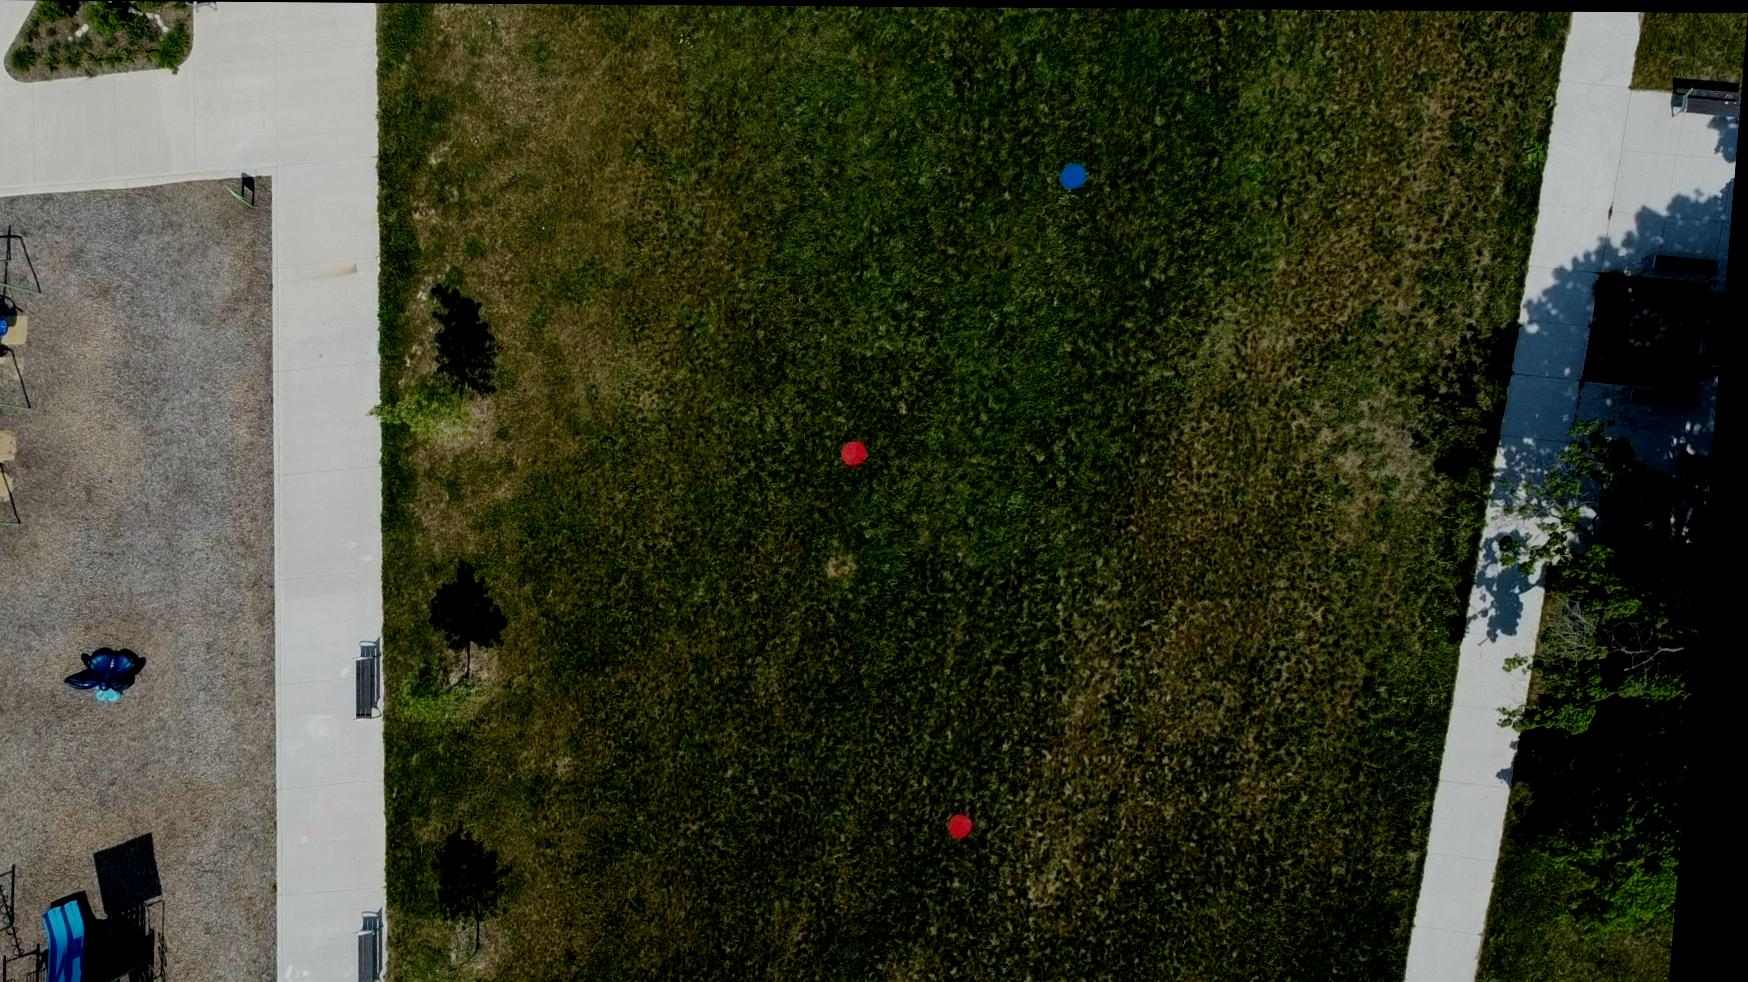Blue: (1061, 161, 1091, 188)
Red: (846, 438, 876, 466), (960, 810, 988, 837)
